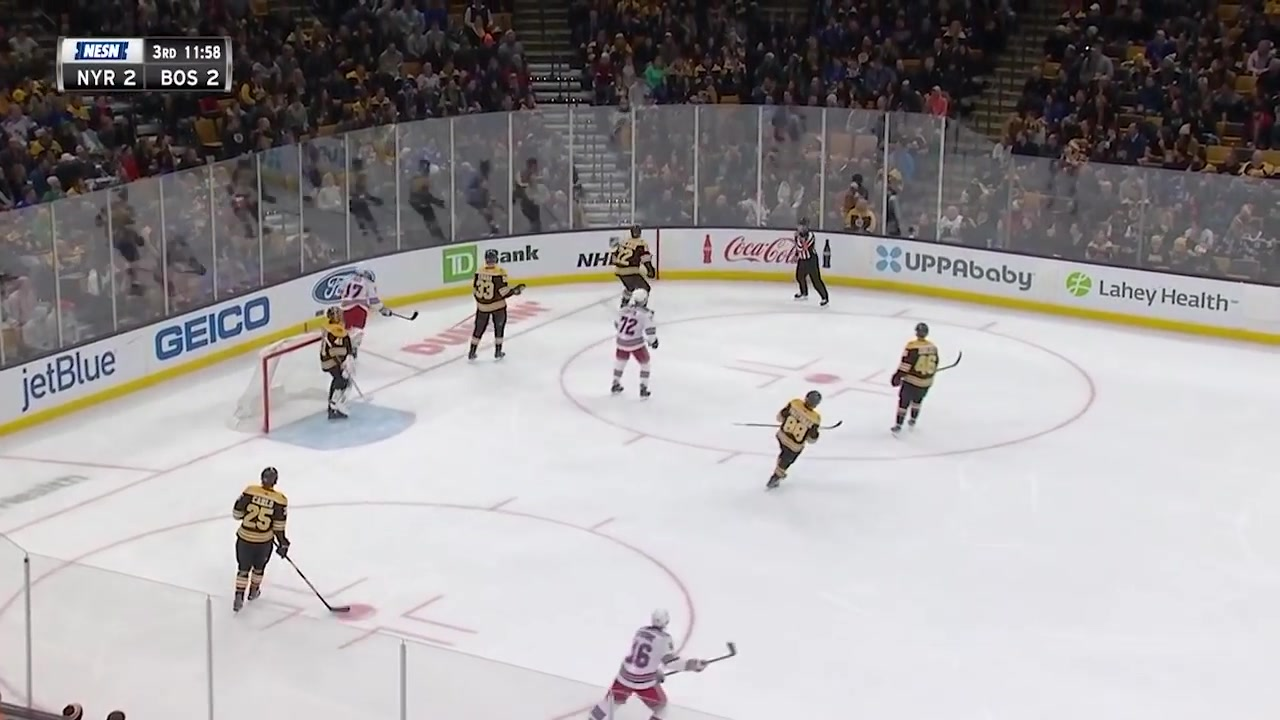Geico: (147, 290, 277, 364)
